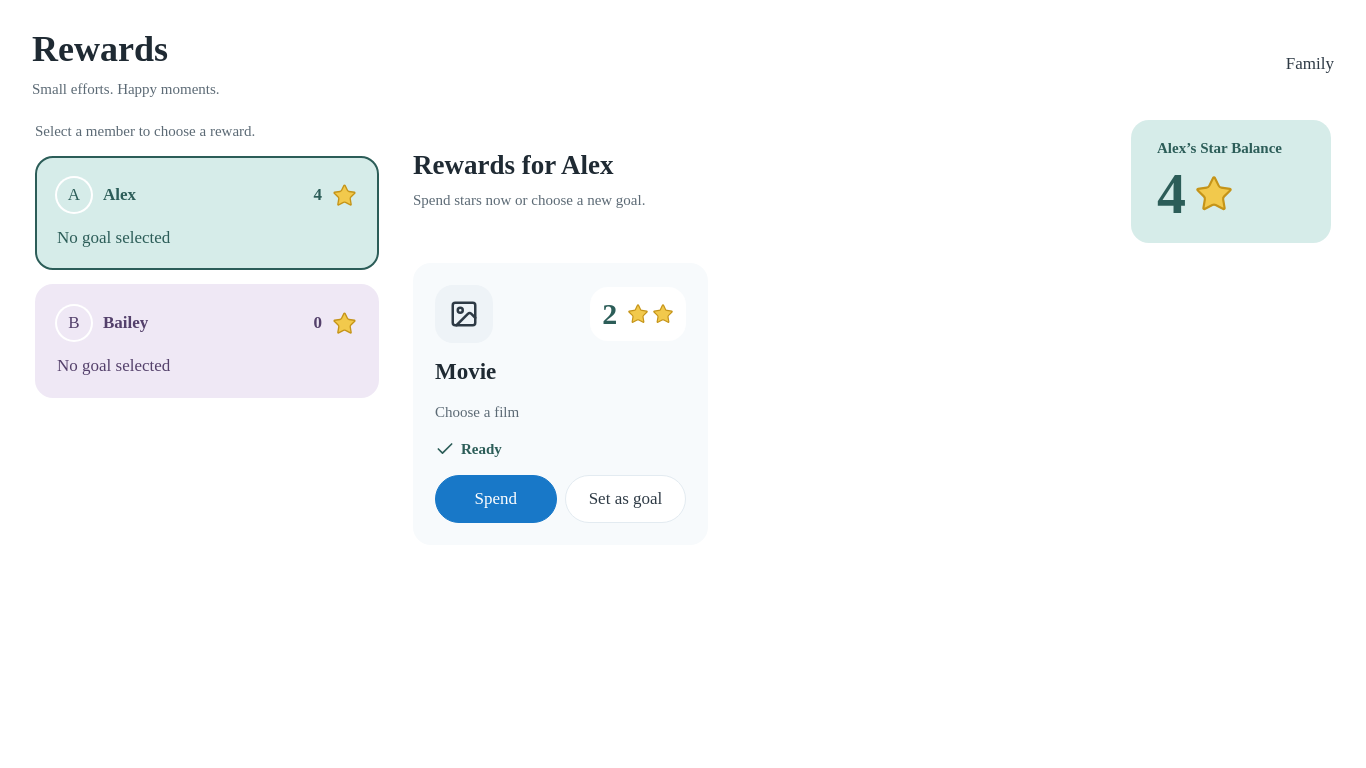
Test: opening and canceling a visual Spend never deducts stars
Expected: the heading "Rewards for Alex" is shown, [413, 150, 646, 181]
Click the button "Spend". click: click(496, 499)
box: [435, 475, 557, 523]
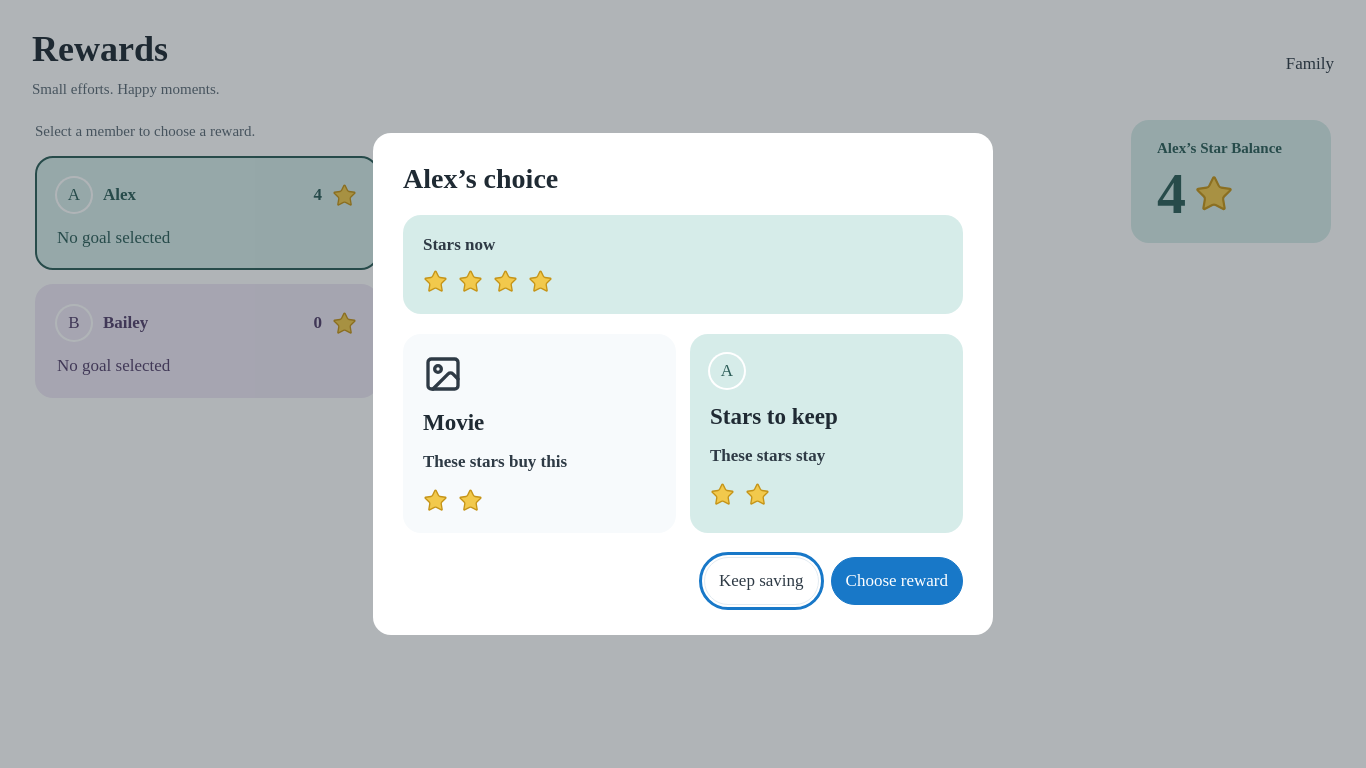
Expected: the text "These stars buy this" is shown, [423, 452, 567, 471]
Expected: the number of pictures named "2 stars" is 2, [423, 488, 483, 513]; [710, 482, 770, 507]
Click the button "Keep saving". click: click(761, 581)
box: [704, 557, 818, 605]
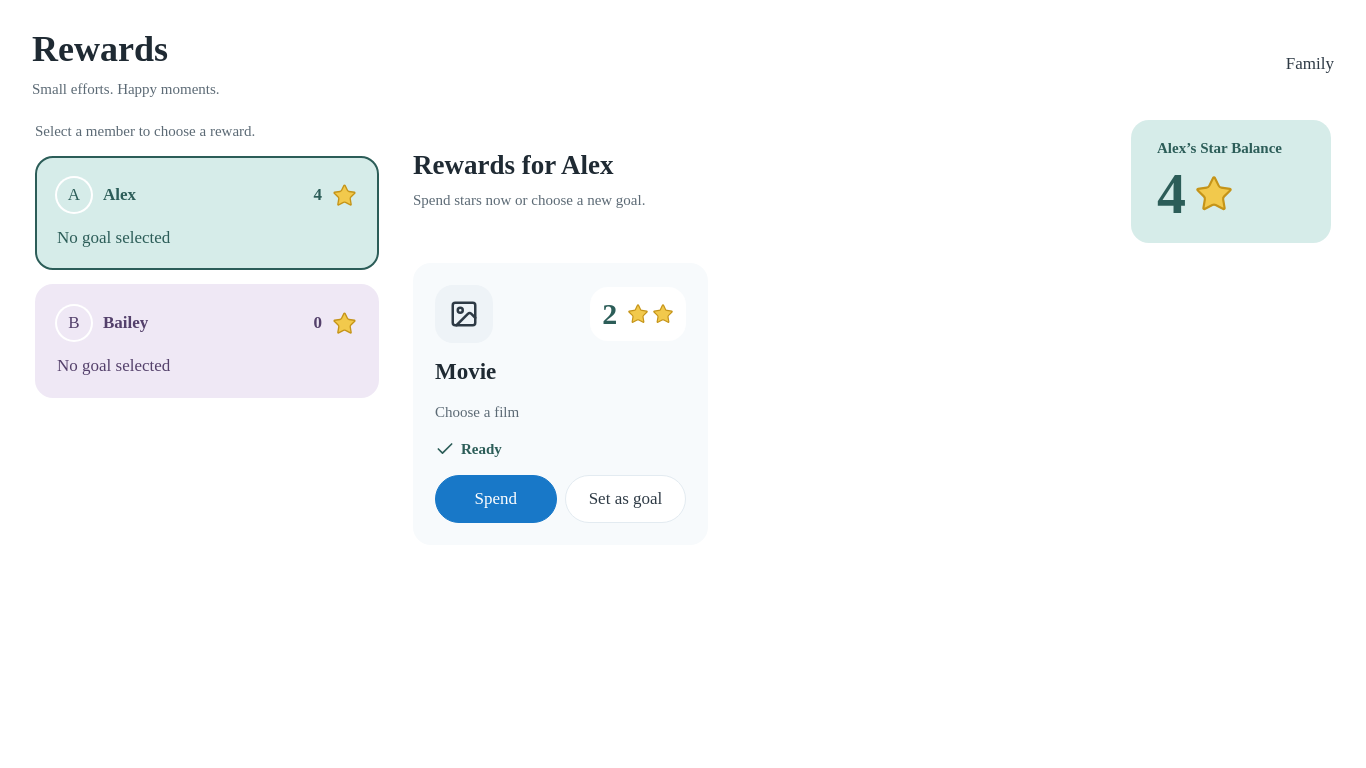
Expected: the dialog is gone
